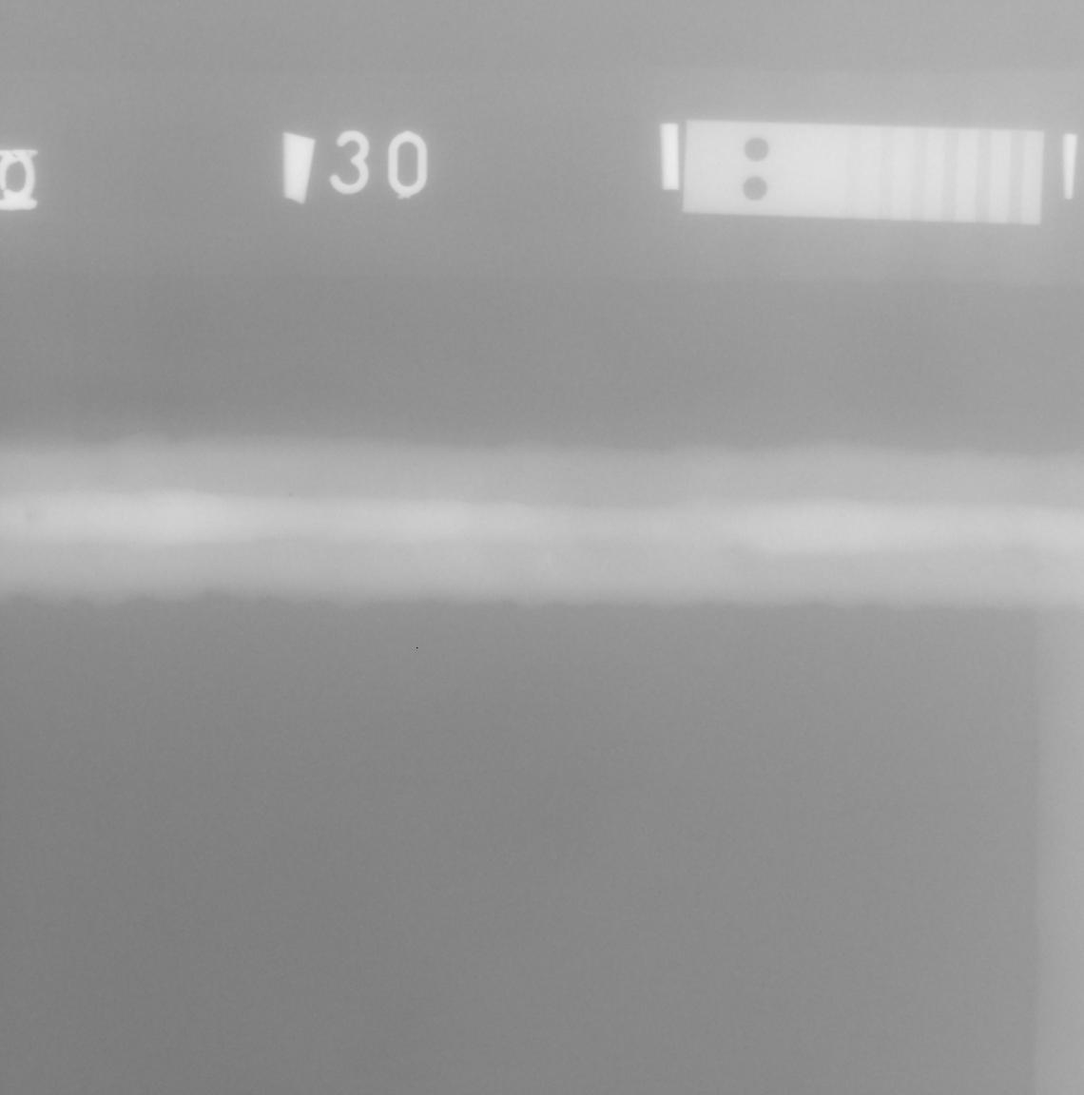Pore/Porosity: (26, 514, 32, 518), (289, 493, 293, 497)
Reference Standard 2: (684, 120, 1044, 225)
